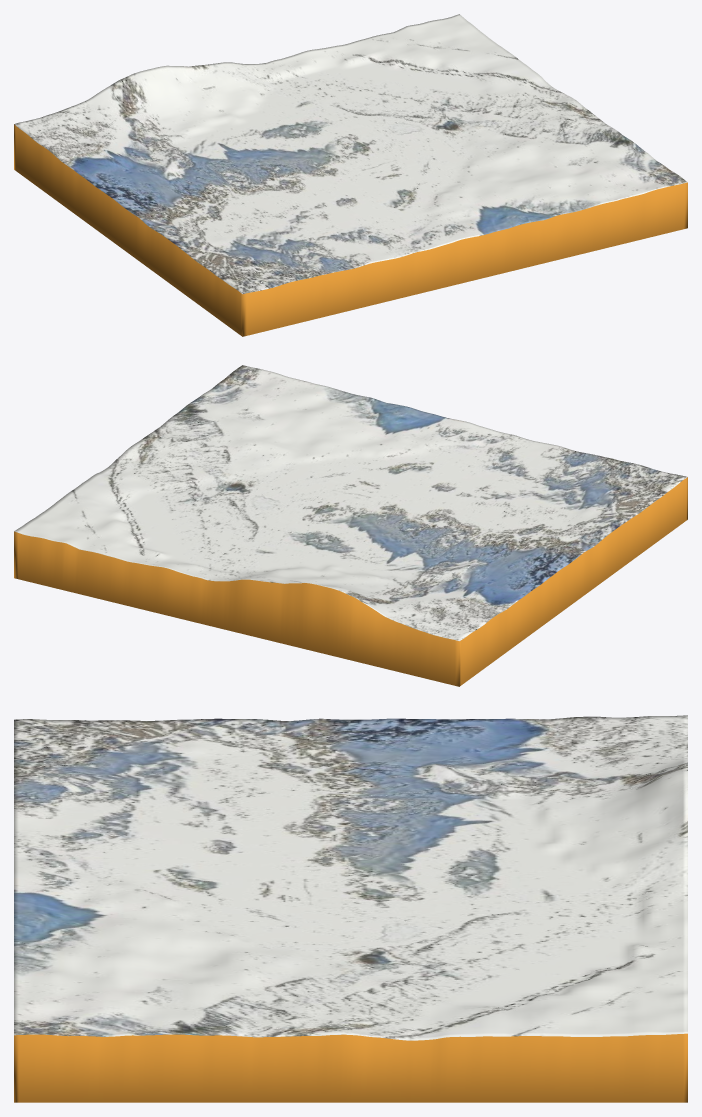
File: coatlalco.fbx
3 renders of one model, top to bottom at view 1: azimuth 30°, elevation 25°; view 2: azimuth 150°, elevation 25°; view 3: azimuth 270°, elevation 25°, orthographic. The views are drawn at different scales.
Visible parts, largest first — view 1: EXPORT_GOOGLE_SAT_WM; view 2: EXPORT_GOOGLE_SAT_WM; view 3: EXPORT_GOOGLE_SAT_WM.
Part boxes in pixels (x1=…): EXPORT_GOOGLE_SAT_WM: x1=14, y1=14, x2=687, y2=336; EXPORT_GOOGLE_SAT_WM: x1=14, y1=365, x2=687, y2=686; EXPORT_GOOGLE_SAT_WM: x1=14, y1=715, x2=687, y2=1102.
Size of the model in its own units: 194914 by 28156 by 173257.
